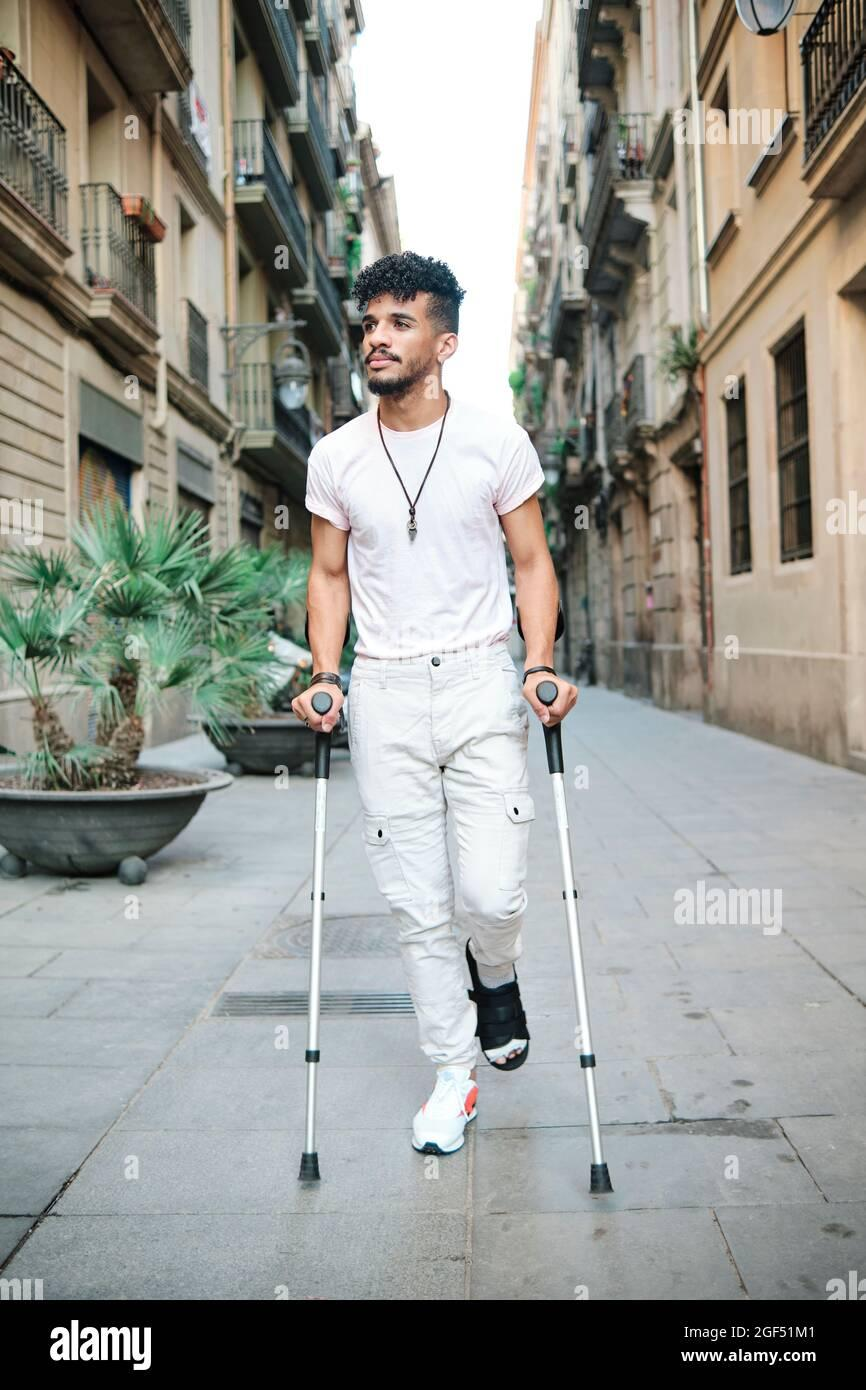crutches: (291, 250, 614, 1193)
